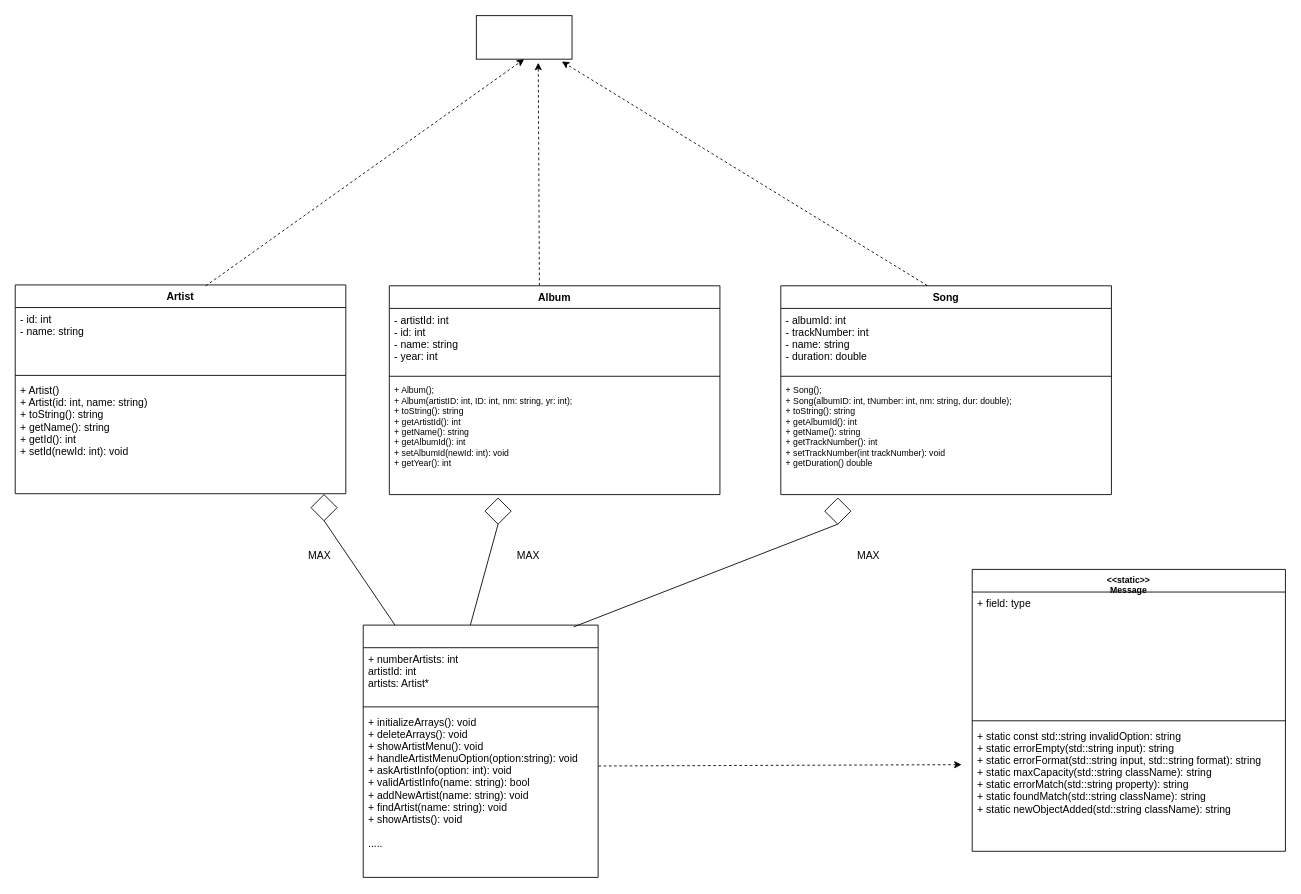
Image size: 1301x894. Some labels were removed from this diagram. Each missing label, with the box of its shape:
Main: (362, 624, 598, 877)
«interface» Printable: (475, 15, 572, 59)
